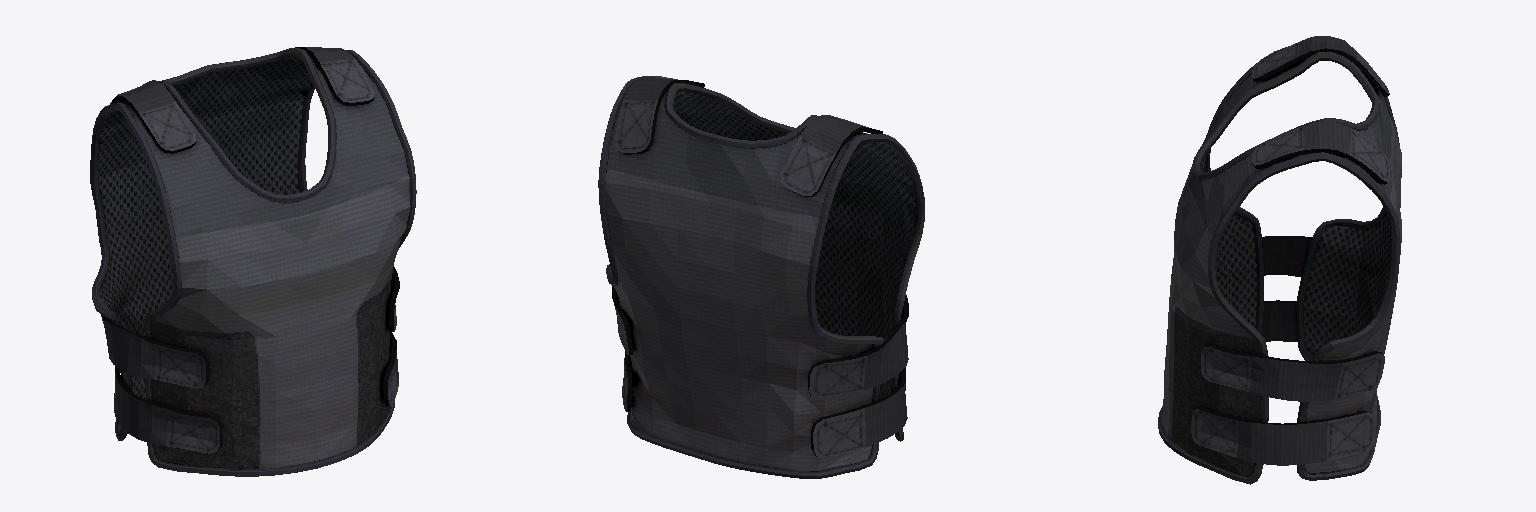
The picture shows the model from 3 angles: view 1: azimuth 30°, elevation 25°; view 2: azimuth 150°, elevation 25°; view 3: azimuth 270°, elevation 25°; orthographic projection.
Visible parts, largest first — view 1: Object_7; view 2: Object_7; view 3: Object_7.
Boxes of the visible parts, x1=… form: Object_7: x1=90, y1=47, x2=416, y2=476; Object_7: x1=598, y1=76, x2=924, y2=478; Object_7: x1=1158, y1=36, x2=1401, y2=484.
Size of the model in its own units: 0.4187 by 0.5018 by 0.322.
1 materials, 1 textured.